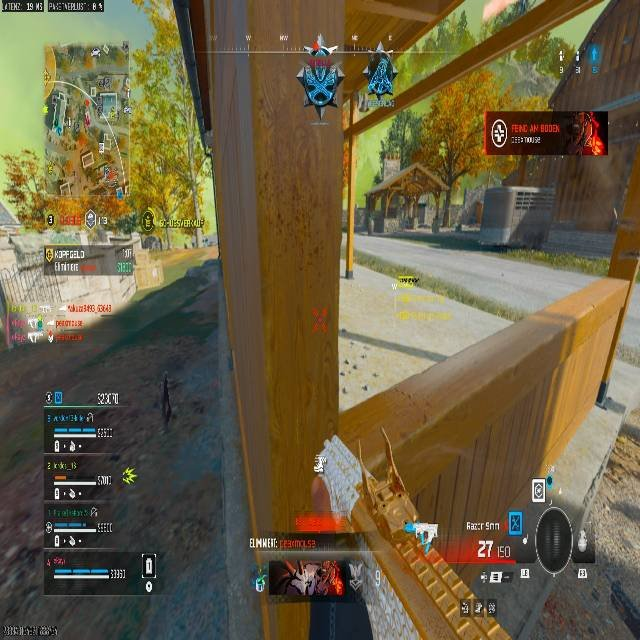player: (300, 45, 342, 113), (362, 57, 395, 108)
